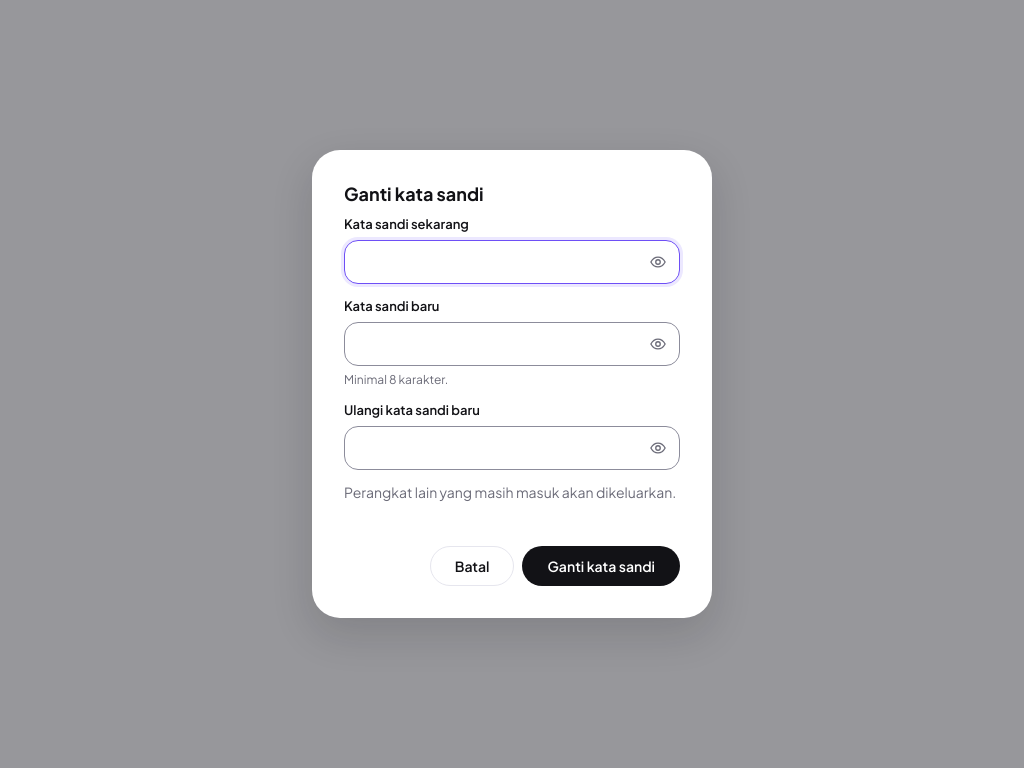
PasswordDialog › menolak ulangan yang tidak sama
The width and height of the screenshot is (1024, 768).
Step 1. Type "rahasia123" into the password field labelled "Kata sandi sekarang" → (498, 262), box [361,241,635,283]
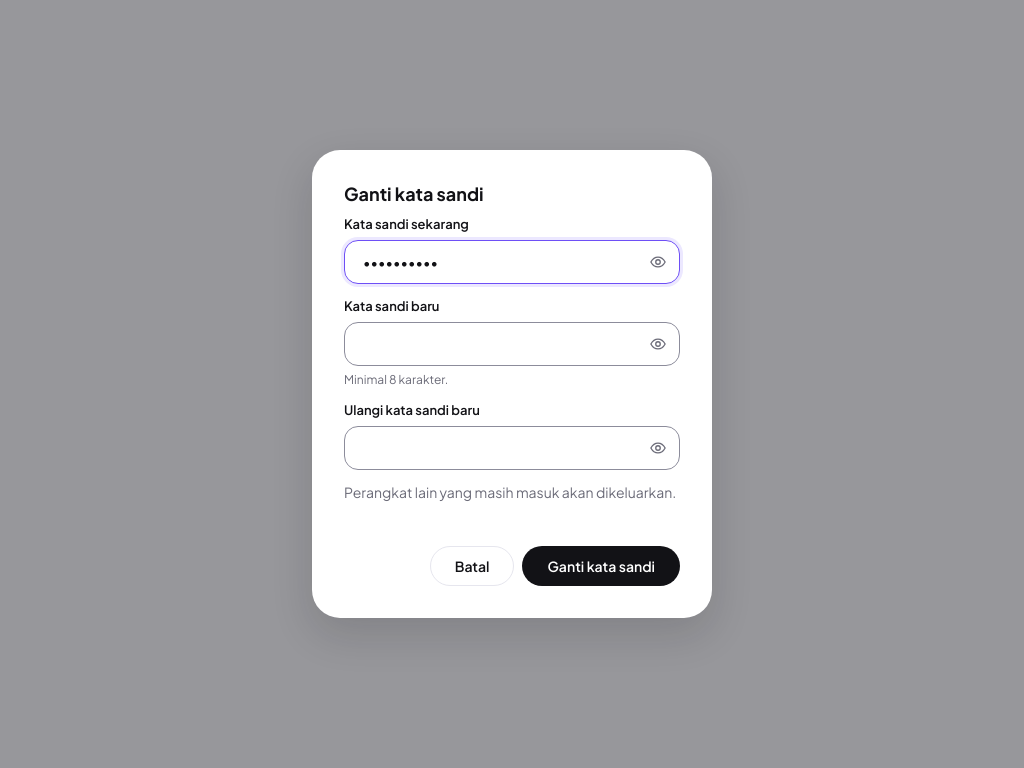
Step 2. Type "sandibaru123" into the password field labelled "Kata sandi baru" → (498, 344), box [361,323,635,365]
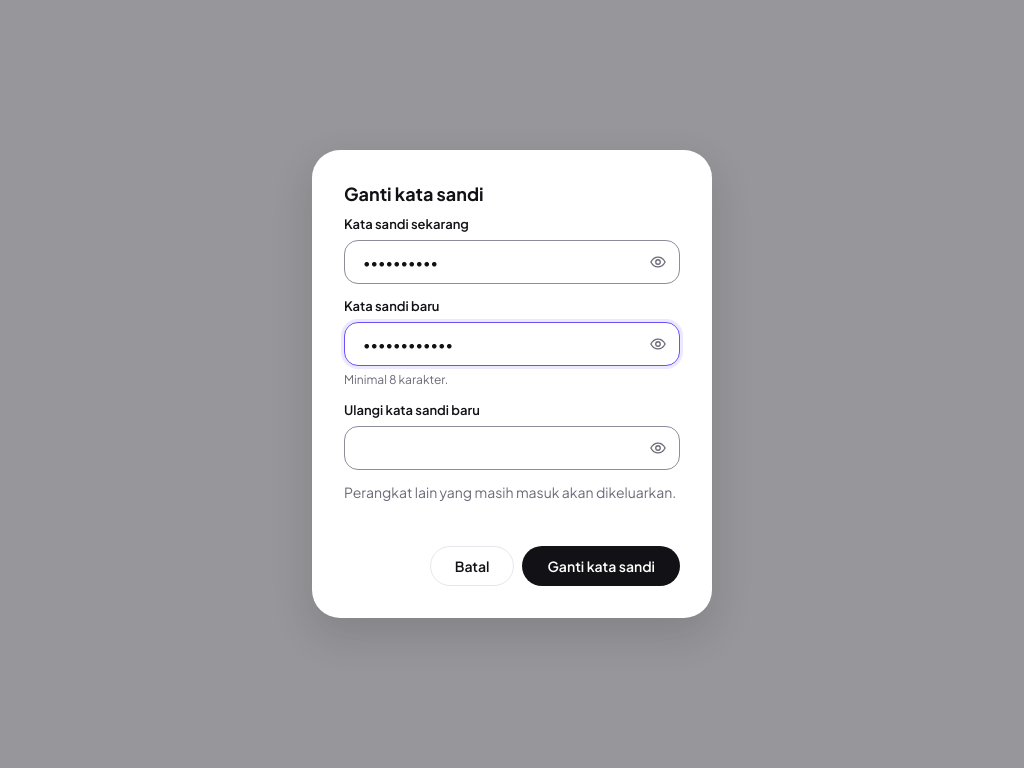
Step 3. Type "sandibaru124" into the password field labelled "Ulangi kata sandi baru" → (498, 448), box [361,427,635,469]
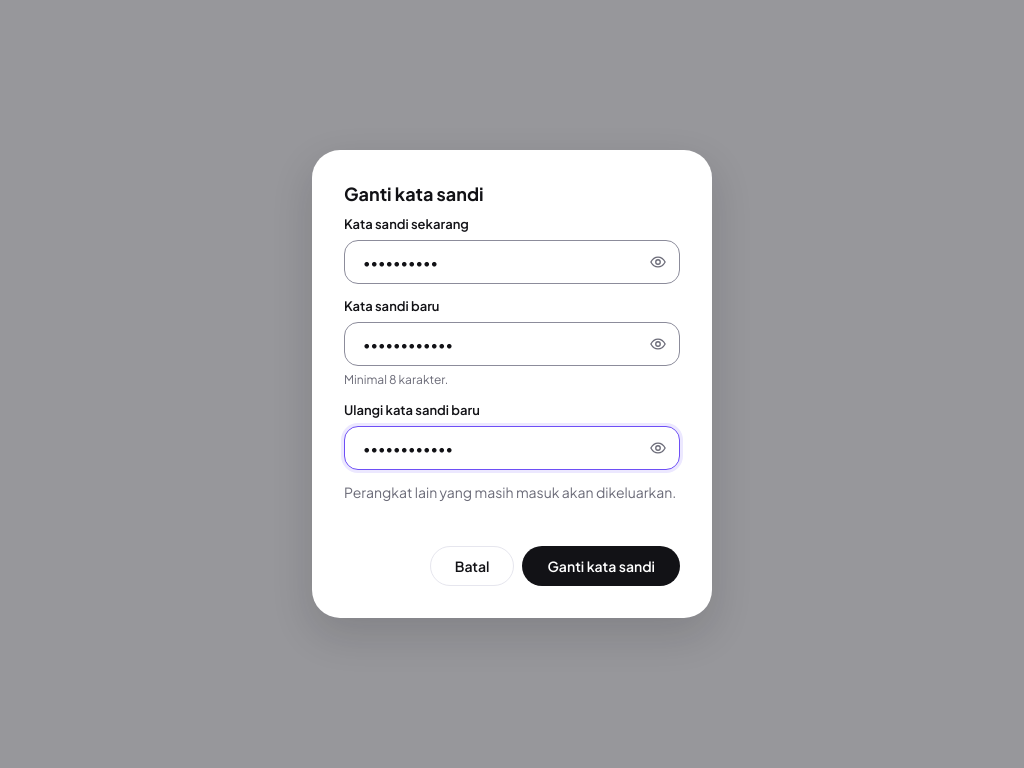
Step 4. Click the button "Ganti kata sandi" → (601, 566), box [522,546,680,586]
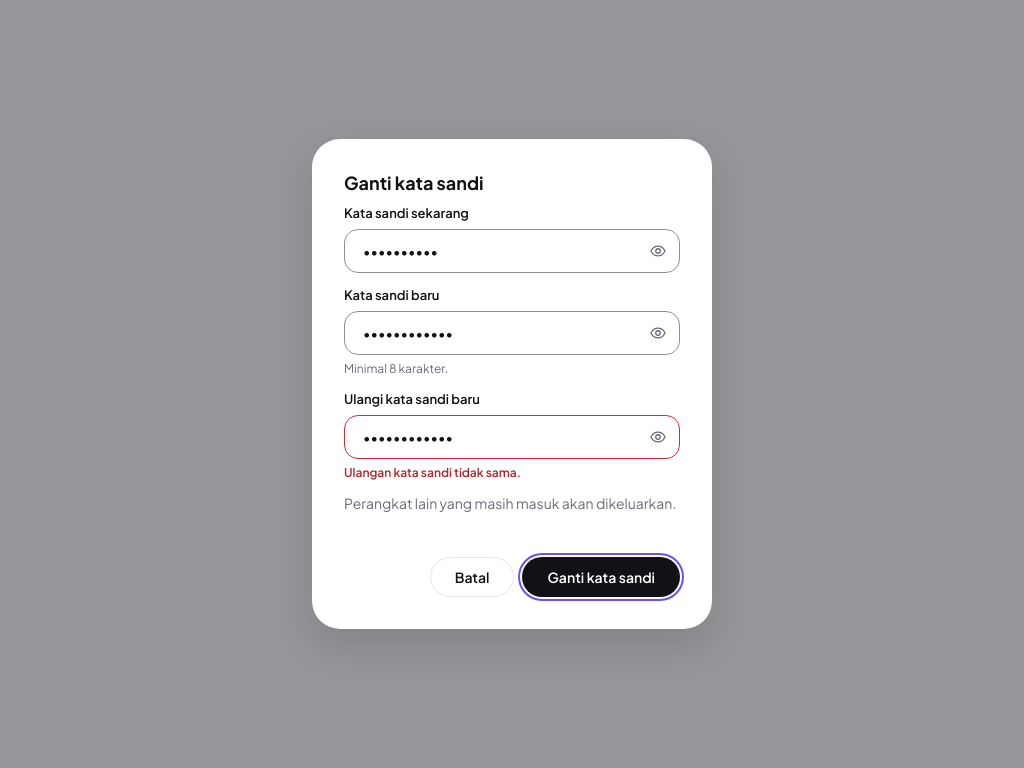
Result: the message shows "Ulangan kata sandi tidak sama" at [344,465,521,480]
